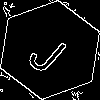J: (25, 25, 76, 77)
